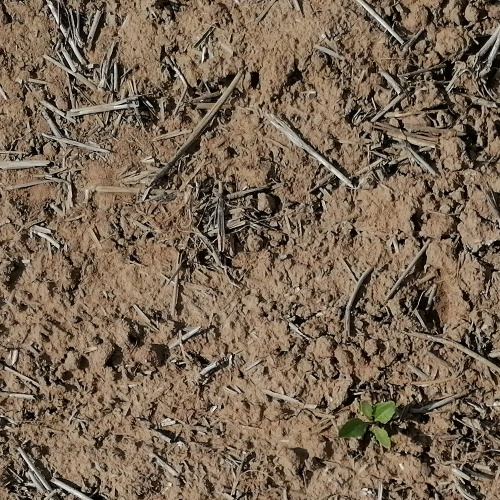beet: (337, 397, 396, 450)
